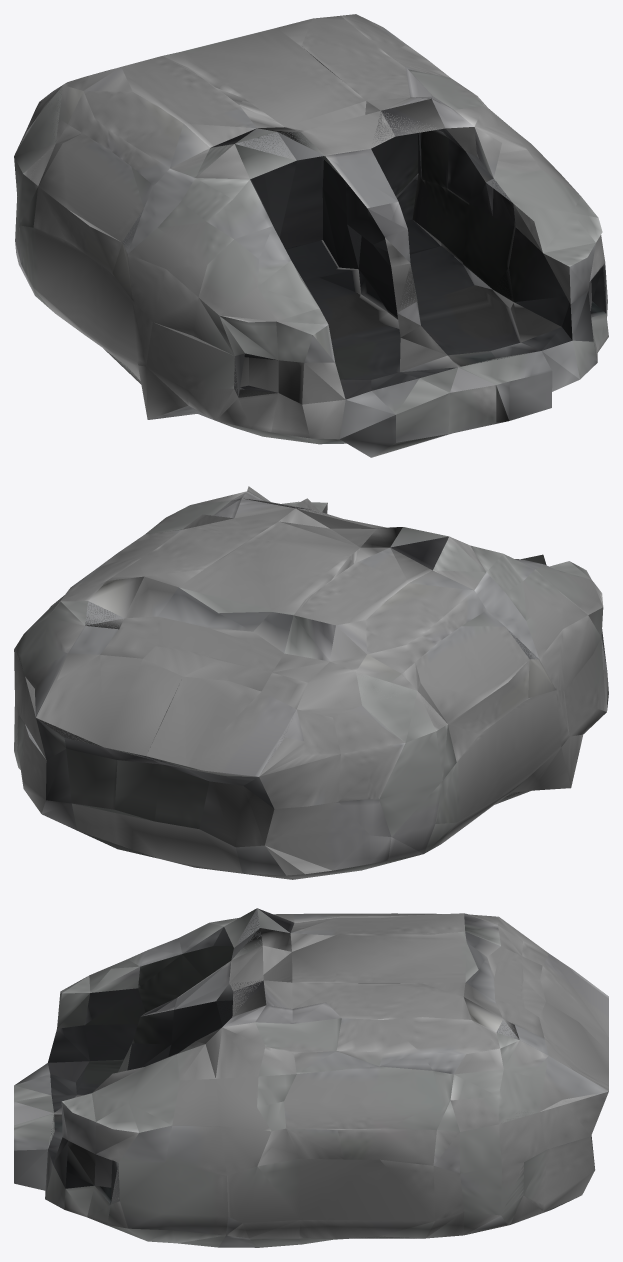
File: shared_flak_tower_compact_option__turret_head_lod2.glb
The picture shows the model from 3 angles, top to bottom: view 1: azimuth 30°, elevation 25°; view 2: azimuth 150°, elevation 25°; view 3: azimuth 270°, elevation 25°; orthographic projection. The views are drawn at different scales.
Visible parts, largest first — view 1: mesh_node; view 2: mesh_node; view 3: mesh_node.
Boxes of the visible parts, box(x1,y1,x2,y2) form: mesh_node: box(14, 14, 608, 457); mesh_node: box(14, 486, 608, 879); mesh_node: box(14, 908, 608, 1247).
Size of the model in its own units: 3.46 by 1.87 by 4.63.
1 material, 1 textured.
